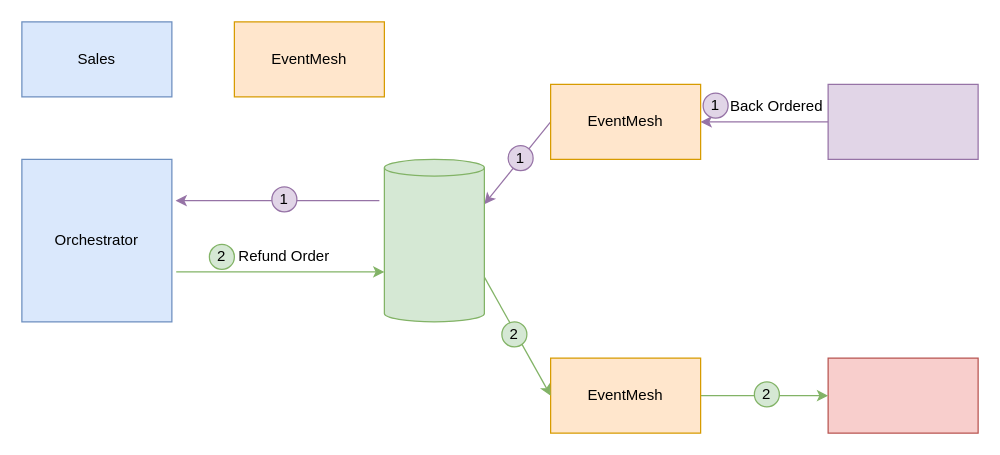
Image size: 1000x455. Some labels were removed from this diagram. The shapes that lost their labels are listed below. From the top down, each one's centre as x and y in pixels, then its label:
pixel 902 121: WareHouse
pixel 433 240: EventStore
pixel 902 395: Billing
